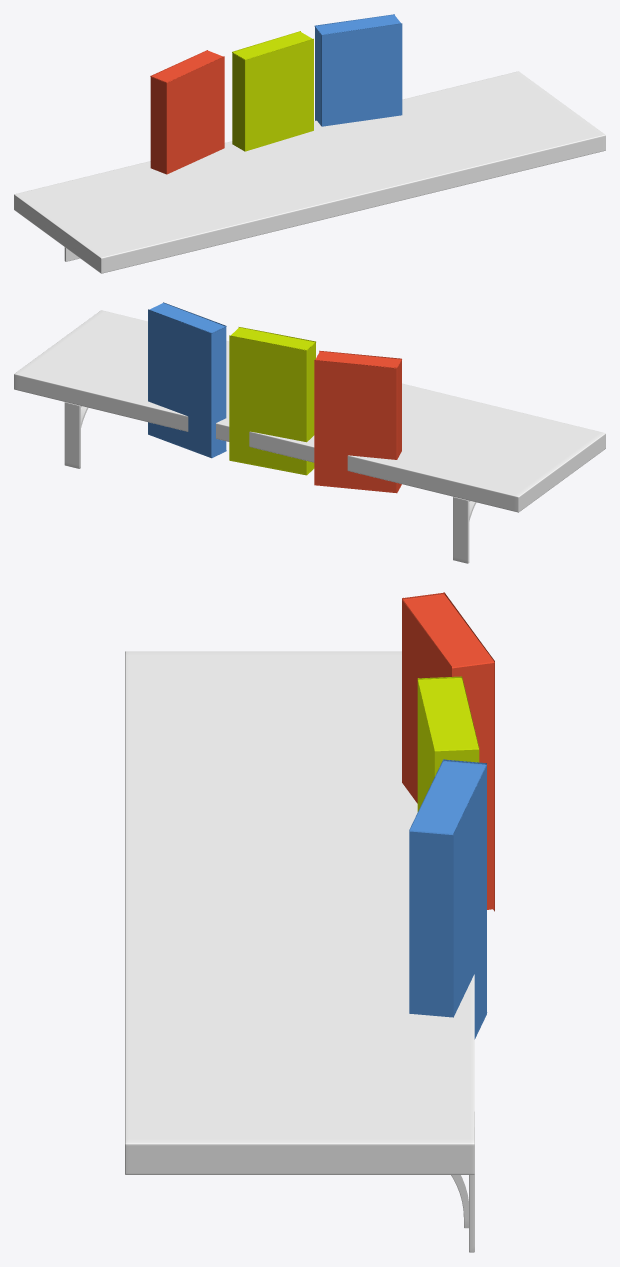
Rendered from shelf-with-zzz-tapes.glb.
3 views of the same model, one above another, from view 1: azimuth 30°, elevation 25°; view 2: azimuth 150°, elevation 25°; view 3: azimuth 270°, elevation 25° (orthographic). The views are drawn at different scales.
Visible parts, largest first — view 1: Shelf_with_brackets, Cube.003, Cube.004, Cube.005; view 2: Shelf_with_brackets, Cube.005, Cube.004, Cube.003; view 3: Shelf_with_brackets, Cube.003, Cube.005, Cube.004.
Boxes of the visible parts, <box> form: Shelf_with_brackets: <box>14,71,605,273</box>; Cube.003: <box>314,14,402,126</box>; Cube.004: <box>232,31,313,151</box>; Cube.005: <box>150,50,224,174</box>; Shelf_with_brackets: <box>14,310,605,563</box>; Cube.005: <box>314,350,401,493</box>; Cube.004: <box>229,327,315,475</box>; Cube.003: <box>148,302,226,458</box>; Shelf_with_brackets: <box>125,651,474,1252</box>; Cube.003: <box>409,759,487,1039</box>; Cube.005: <box>402,592,494,911</box>; Cube.004: <box>417,676,479,811</box>.
Size of the model in its own units: 0.65 by 0.2111 by 0.2063.
